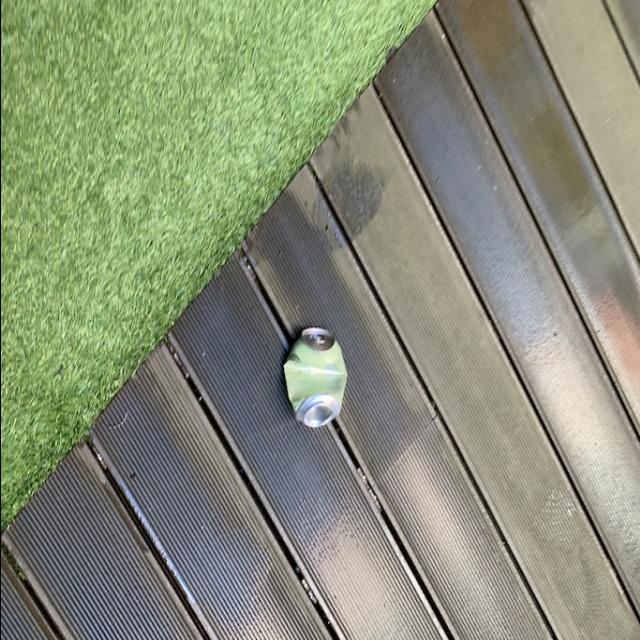Aluminum Can: (280, 323, 350, 435)
